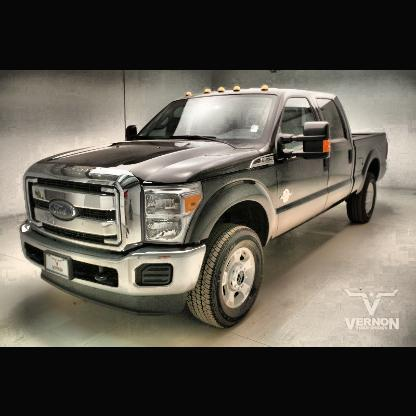Ford F-450 Super Duty Crew Cab 2012: (20, 87, 389, 332)
